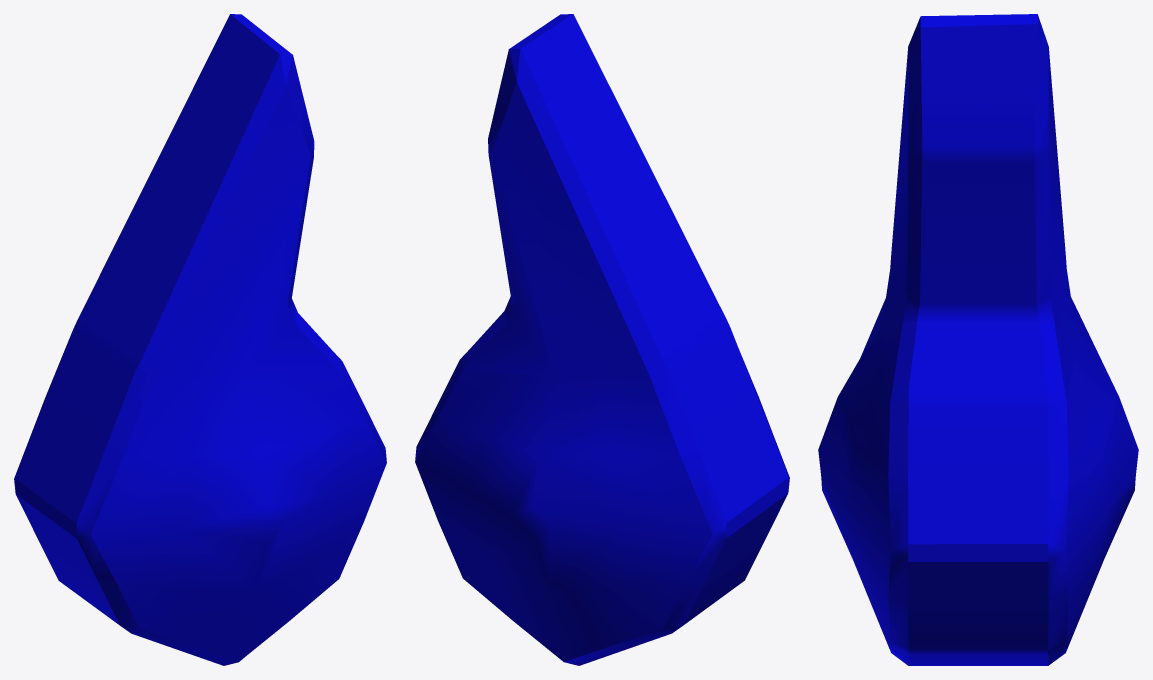
The model's file is ManaAsset.fbx.
The picture shows the model from 3 angles, left to right: view 1: azimuth 30°, elevation 25°; view 2: azimuth 150°, elevation 25°; view 3: azimuth 270°, elevation 25°; orthographic projection. The views are drawn at different scales.
Visible parts, largest first — view 1: pCube28; view 2: pCube28; view 3: pCube28.
Boxes of the visible parts, x1,y1,x2,y2 form: pCube28: [14, 14, 386, 665]; pCube28: [415, 14, 789, 665]; pCube28: [818, 14, 1138, 665].
Size of the model in its own units: 4.61 by 8.48 by 3.63.
